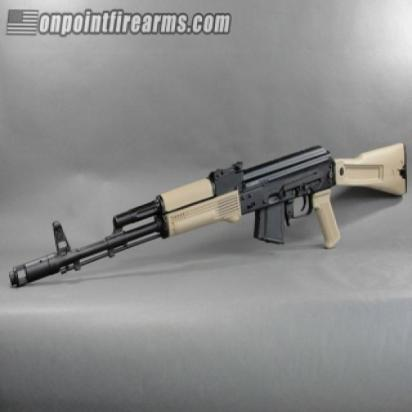Gun: (7, 137, 410, 285)
